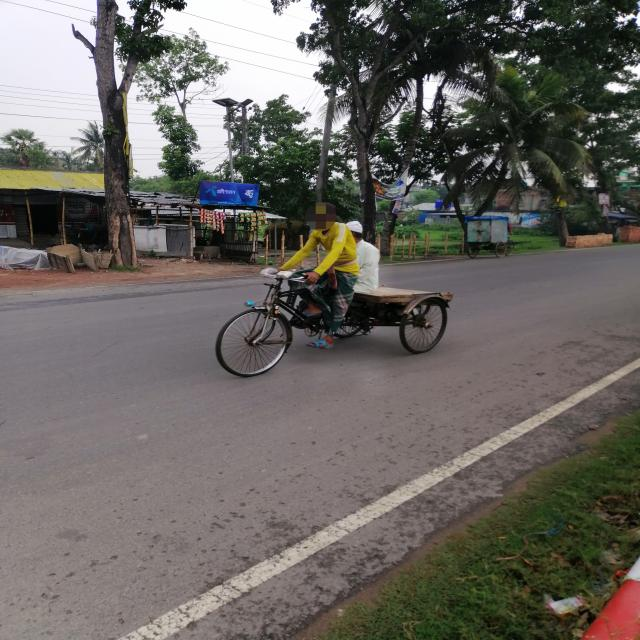Van: (208, 267, 475, 387)
